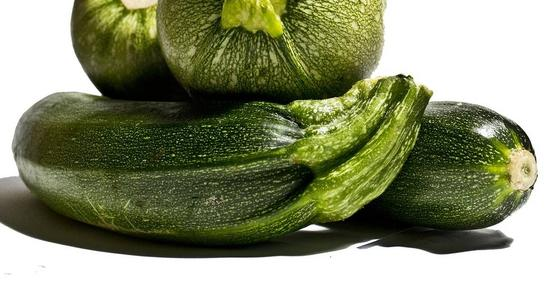zucchini: (15, 84, 420, 275)
